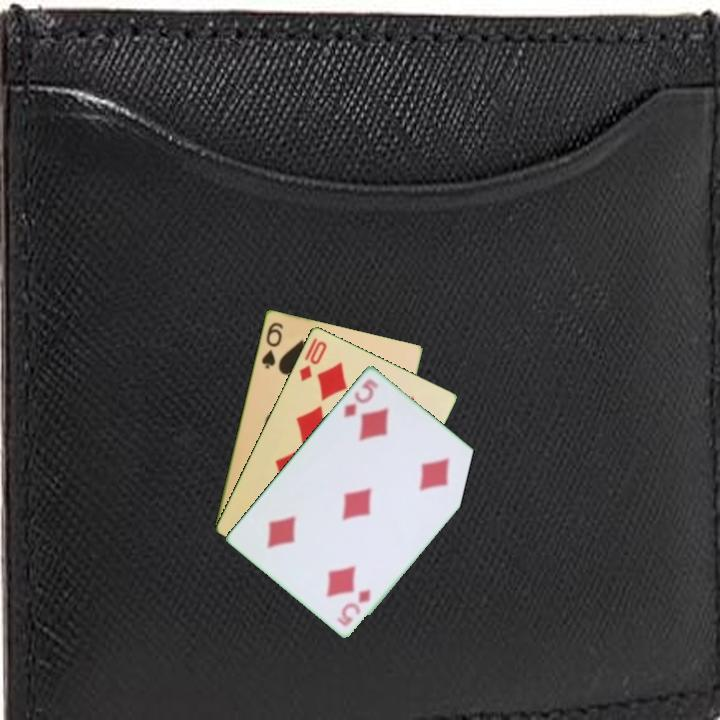10d: (296, 337, 330, 384)
5d: (340, 374, 381, 420), (333, 585, 374, 629)
6s: (258, 318, 286, 371)
